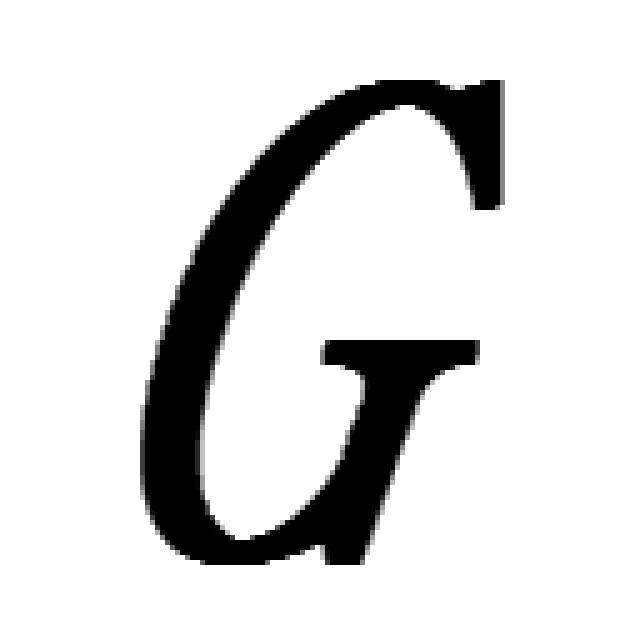G: (130, 65, 515, 570)
